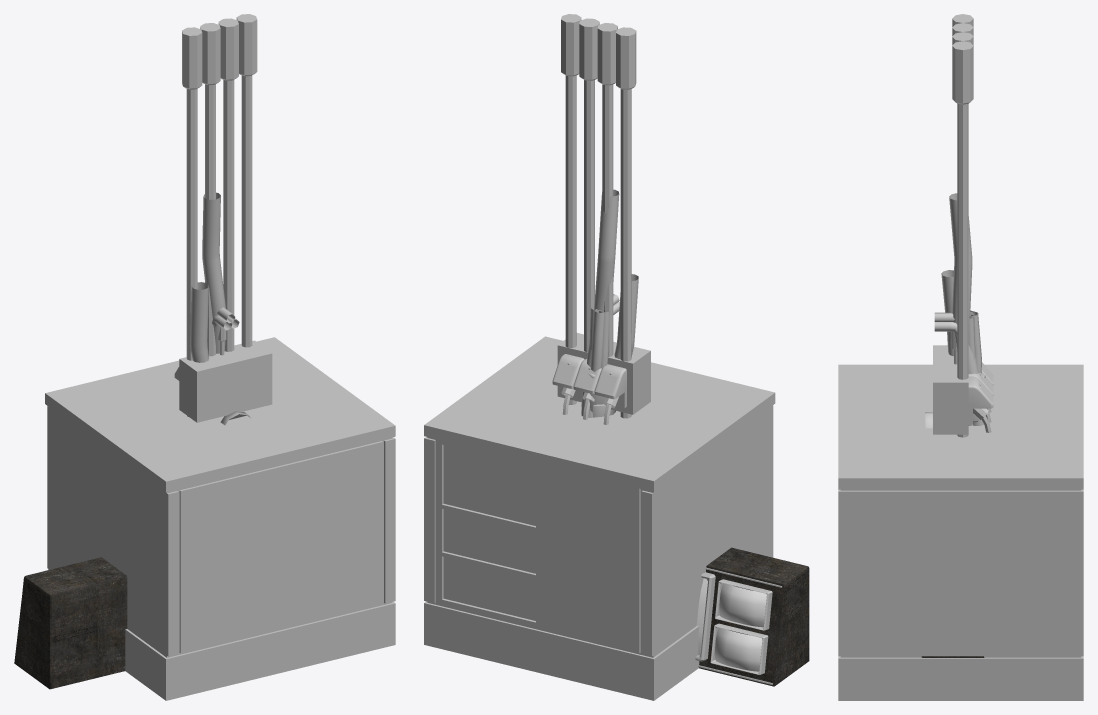
Rendered from ComputerSlop.fbx.
3 views of the same model, side by side, from view 1: azimuth 30°, elevation 25°; view 2: azimuth 150°, elevation 25°; view 3: azimuth 270°, elevation 25° (orthographic).
Parts seen in each view (by area): view 1: Mesh_Power_Unit_Server.003, Mesh_Power_Cables.014, Mesh_Computer_Monitor.011, Mesh_Power_Box.016, Mesh_Power_Cables.016, Mesh_Power_Cables.015; view 2: Mesh_Power_Unit_Server.003, Mesh_Power_Cables.014, Mesh_Computer_Monitor.011, Mesh_Computer_Monitor.001, Mesh_Power_Box.016, Mesh_Power_Cables.016, Mesh_Power_Cables.012, Mesh_Power_Cables.015; view 3: Mesh_Power_Unit_Server.003, Mesh_Power_Cables.014, Mesh_Power_Box.016, Mesh_Power_Cables.016, Mesh_Power_Cables.012, Mesh_Power_Cables.015, Mesh_Power_Cables.013.
Part boxes in pixels (box(x1,y1,x2,y2)): Mesh_Power_Unit_Server.003: box(45, 337, 395, 700); Mesh_Power_Cables.014: box(182, 14, 257, 416); Mesh_Computer_Monitor.011: box(14, 557, 127, 689); Mesh_Power_Box.016: box(174, 340, 272, 422); Mesh_Power_Cables.016: box(202, 192, 251, 425); Mesh_Power_Cables.015: box(190, 282, 208, 362); Mesh_Power_Unit_Server.003: box(424, 336, 775, 700); Mesh_Power_Cables.014: box(561, 14, 636, 418); Mesh_Computer_Monitor.011: box(698, 547, 809, 686); Mesh_Computer_Monitor.001: box(695, 572, 772, 674); Mesh_Power_Box.016: box(552, 333, 650, 424); Mesh_Power_Cables.016: box(581, 189, 619, 417); Mesh_Power_Cables.012: box(581, 306, 609, 411); Mesh_Power_Cables.015: box(609, 274, 638, 415); Mesh_Power_Unit_Server.003: box(838, 364, 1083, 700); Mesh_Power_Cables.014: box(952, 14, 973, 437); Mesh_Power_Box.016: box(933, 345, 993, 434); Mesh_Power_Cables.016: box(925, 193, 983, 428); Mesh_Power_Cables.012: box(968, 310, 985, 425); Mesh_Power_Cables.015: box(941, 270, 953, 356); Mesh_Power_Cables.013: box(934, 312, 957, 337).
Bounding box in the file's own units: 146 × 275 × 100.
